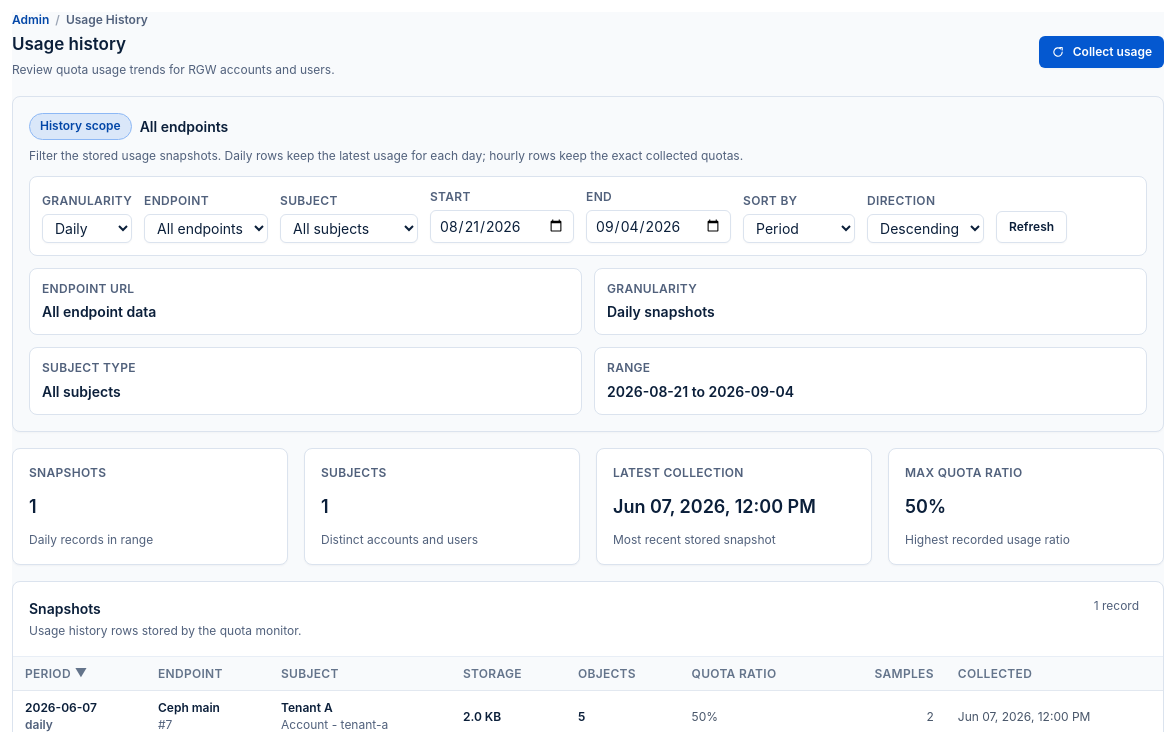
UsageHistoryPage › shows collection warnings without hiding the successful snapshot count
Expected: the text "Tenant A" is shown, [281,700,333,715]
Click the button "Collect usage" at (1101, 52), box [1039,36,1164,68]
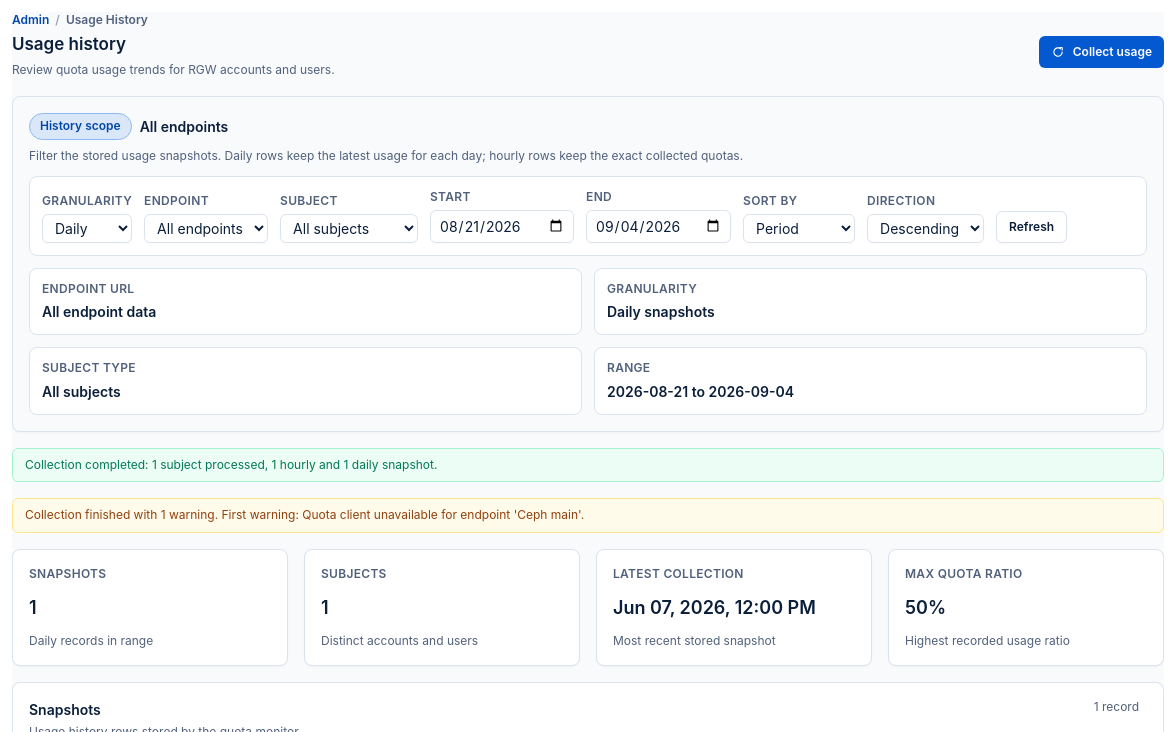
Expected: the text "Collection completed: 1 subject processed, 1 hourly and 1 daily snapshot." is shown, [12,448,1164,482]
Expected: the text "Collection finished with 1 warning" is shown, [25,507,584,522]
